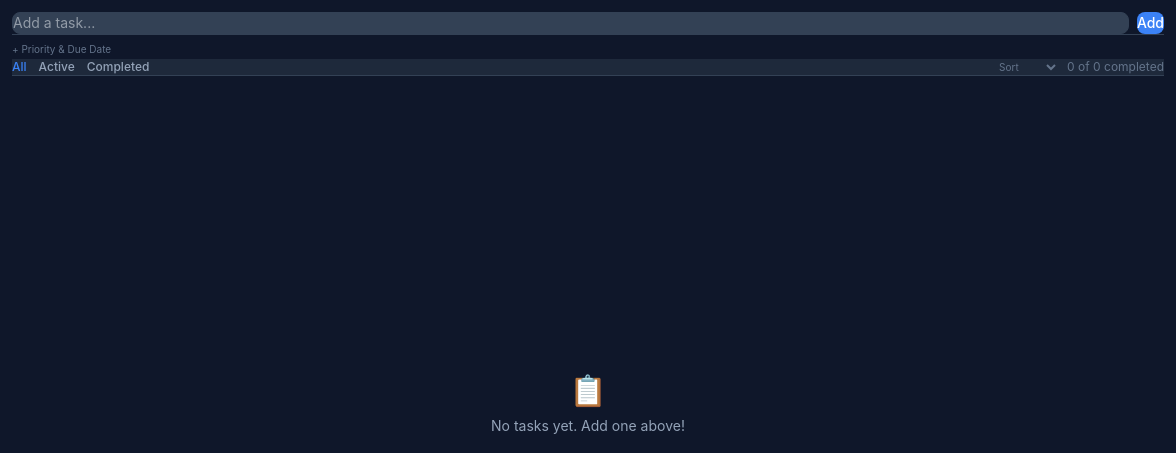
Test: Tasks › can delete a task
Type "Delete me" into the field with placeholder "Add a task...".
click(570, 23); type("Delete me")  # box [12,12,1129,34]
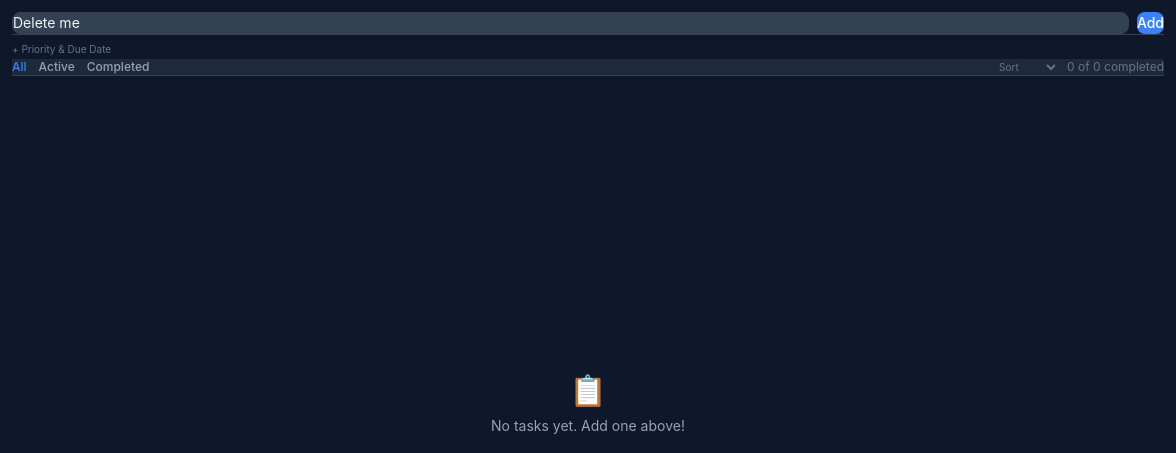
Click the button "Add".
click(1150, 23)  # box [1137,12,1164,34]
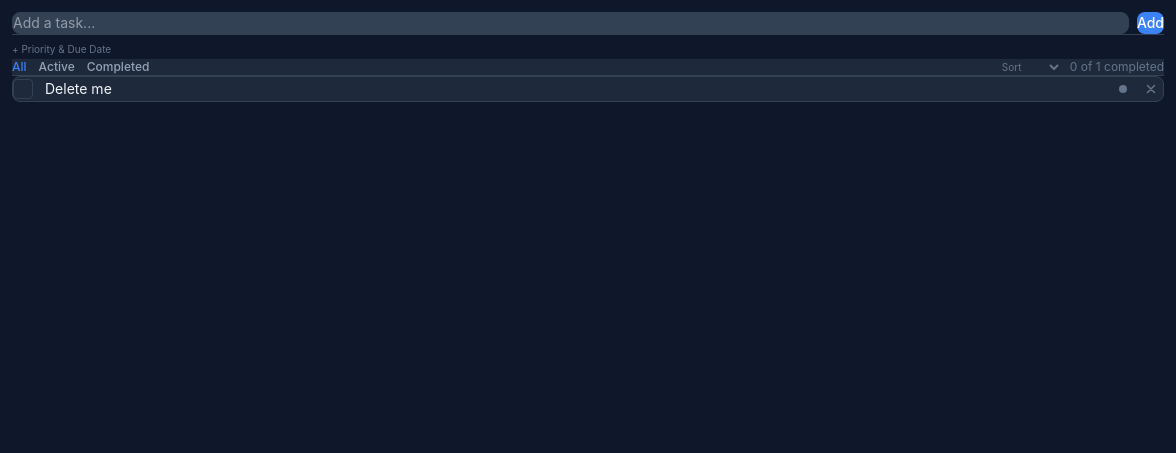
Now the text "Delete me" is shown, box [45,80,112,97]
Click the button titled "Delete task".
click(1151, 89)  # box [1139,77,1163,101]
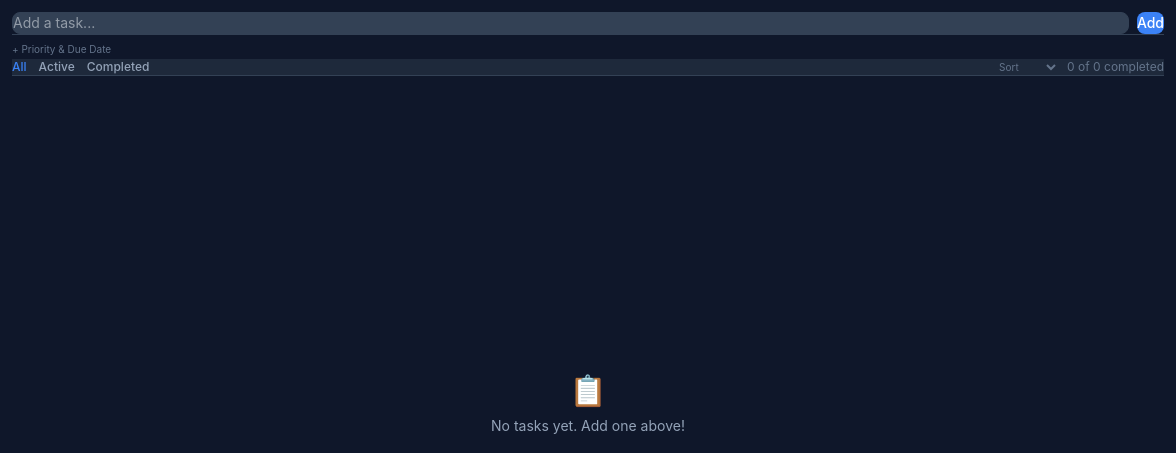
Now the text "No tasks yet. Add one above!" is shown, box [491,416,685,436]
